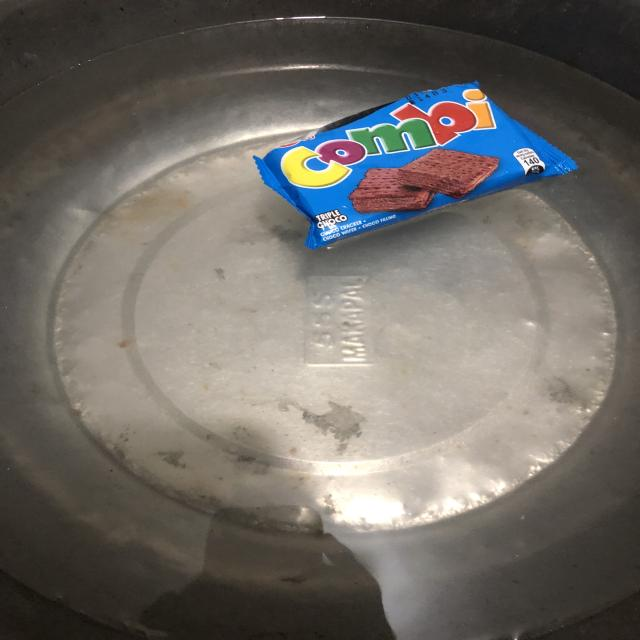Plastic Wrapper: (252, 76, 589, 258)
